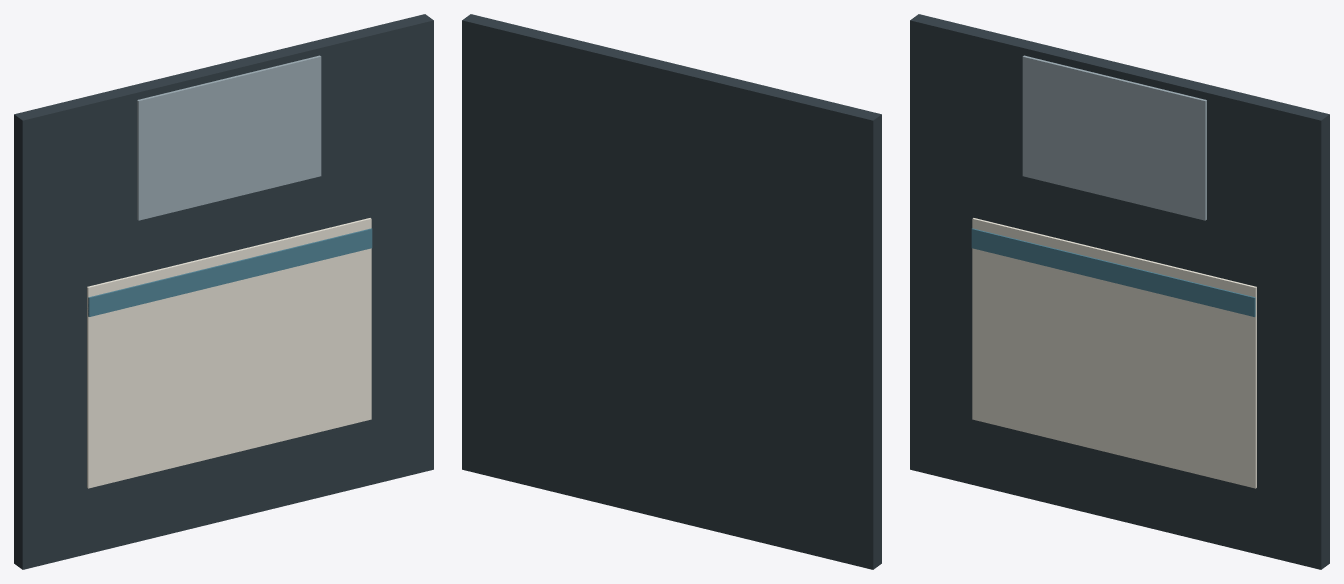
File: floppy.glb
3 views of the same model, side by side, from view 1: azimuth 30°, elevation 25°; view 2: azimuth 150°, elevation 25°; view 3: azimuth 330°, elevation 25° (orthographic).
Parts seen in each view (by area): view 1: floppy; view 2: floppy; view 3: floppy.
Part boxes in pixels (left/top/right/bottom): floppy: left=14, top=14, right=433, bottom=569; floppy: left=462, top=14, right=881, bottom=569; floppy: left=910, top=14, right=1329, bottom=569.
Bounding box in the file's own units: 0.09 × 0.094 × 0.00425.
